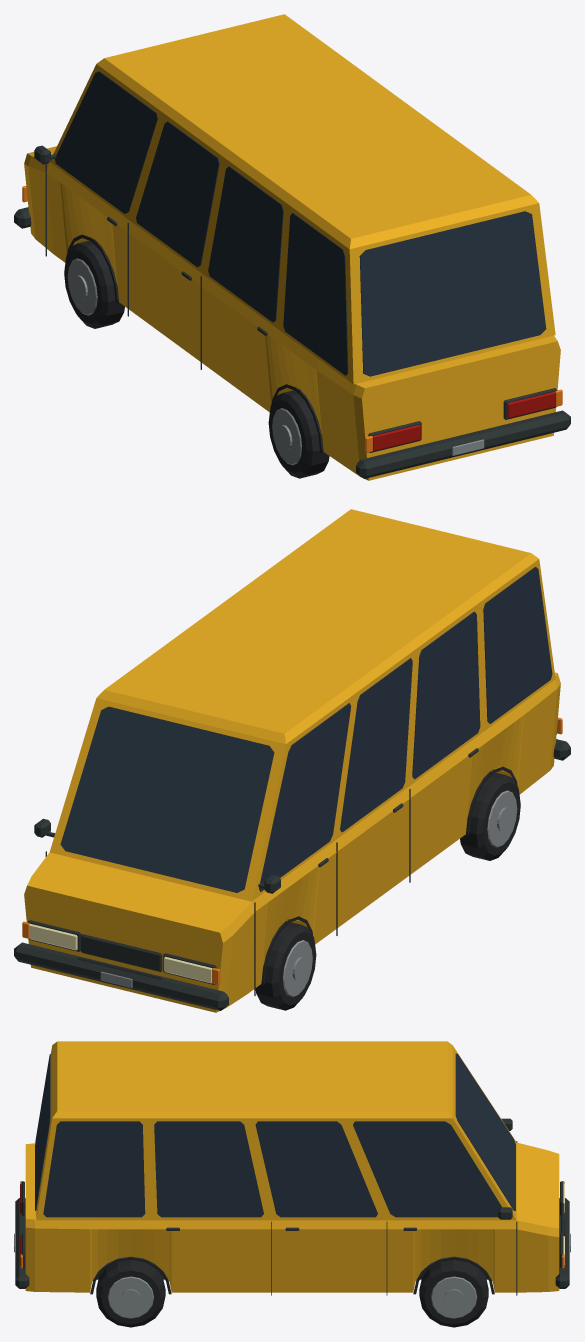
Rendered from 11_Minibus.fbx.
3 renders of one model, top to bottom at view 1: azimuth 30°, elevation 25°; view 2: azimuth 150°, elevation 25°; view 3: azimuth 270°, elevation 25°, orthographic. The views are drawn at different scales.
Visible parts, largest first — view 1: Raked cabin with chamfered roof.010, Continuous body with open wheel arches.011, Framed rear windshield.008, Side glass -1 pane 3, Side glass -1 pane 1.008, Side glass -1 pane 0.009, Side glass -1 pane 2.002, Moulded bumper.021, WheelRL_ShapedSidewall.010, WheelFL_ShapedSidewall.010, WheelRL_Rim.010, WheelFL_Rim.010 (+2 smaller); view 2: Raked cabin with chamfered roof.010, Continuous body with open wheel arches.011, Framed opaque windshield.010, Side glass -1 pane 3, Side glass -1 pane 1.008, Side glass -1 pane 2.002, Side glass -1 pane 0.009, Moulded bumper.020, WheelFL_ShapedSidewall.010, WheelRL_ShapedSidewall.010, Inset radiator grille.010, WheelFL_Rim.010 (+3 smaller); view 3: Raked cabin with chamfered roof.010, Continuous body with open wheel arches.011, Side glass 1 pane 3, Side glass 1 pane 1.008, Side glass 1 pane 2.002, Side glass 1 pane 0.009, Framed opaque windshield.010, WheelFR_ShapedSidewall.010, WheelRR_ShapedSidewall.010, WheelFR_Rim.010, WheelRR_Rim.010, Framed rear windshield.008 (+4 smaller).
Part boxes in pixels (bbox=[...]): Raked cabin with chamfered roof.010: bbox=[50, 14, 555, 384]; Continuous body with open wheel arches.011: bbox=[24, 146, 560, 480]; Framed rear windshield.008: bbox=[359, 211, 546, 376]; Side glass -1 pane 3: bbox=[55, 71, 157, 213]; Side glass -1 pane 1.008: bbox=[208, 166, 283, 322]; Side glass -1 pane 0.009: bbox=[283, 213, 348, 375]; Side glass -1 pane 2.002: bbox=[136, 121, 219, 267]; Moulded bumper.021: bbox=[356, 410, 570, 478]; WheelRL_ShapedSidewall.010: bbox=[268, 389, 329, 478]; WheelFL_ShapedSidewall.010: bbox=[64, 239, 124, 328]; WheelRL_Rim.010: bbox=[272, 408, 301, 465]; WheelFL_Rim.010: bbox=[67, 258, 97, 315]; Raked cabin with chamfered roof.010: bbox=[50, 509, 555, 901]; Continuous body with open wheel arches.011: bbox=[24, 672, 560, 1012]; Framed opaque windshield.010: bbox=[60, 706, 274, 892]; Side glass -1 pane 3: bbox=[259, 703, 351, 891]; Side glass -1 pane 1.008: bbox=[412, 611, 480, 779]; Side glass -1 pane 2.002: bbox=[340, 658, 412, 832]; Side glass -1 pane 0.009: bbox=[483, 566, 552, 723]; Moulded bumper.020: bbox=[14, 942, 228, 1010]; WheelFL_ShapedSidewall.010: bbox=[255, 921, 316, 1010]; WheelRL_ShapedSidewall.010: bbox=[460, 771, 520, 860]; Inset radiator grille.010: bbox=[81, 934, 162, 971]; WheelFL_Rim.010: bbox=[283, 940, 312, 997]; Raked cabin with chamfered roof.010: bbox=[36, 1041, 516, 1220]; Continuous body with open wheel arches.011: bbox=[25, 1142, 559, 1292]; Side glass 1 pane 3: bbox=[353, 1121, 501, 1217]; Side glass 1 pane 1.008: bbox=[154, 1121, 263, 1217]; Side glass 1 pane 2.002: bbox=[255, 1121, 377, 1217]; Side glass 1 pane 0.009: bbox=[43, 1121, 145, 1217]; Framed opaque windshield.010: bbox=[455, 1053, 515, 1210]; WheelFR_ShapedSidewall.010: bbox=[419, 1260, 488, 1327]; WheelRR_ShapedSidewall.010: bbox=[96, 1260, 165, 1327]; WheelFR_Rim.010: bbox=[431, 1276, 477, 1318]; WheelRR_Rim.010: bbox=[107, 1276, 153, 1318]; Framed rear windshield.008: bbox=[35, 1054, 50, 1210].
Bounding box in the file's own units: 234 × 249 × 595.
